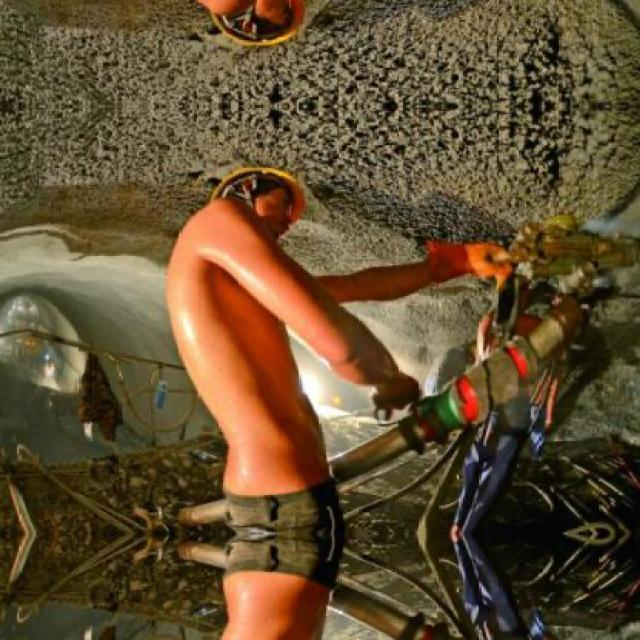helmet: (203, 154, 334, 228), (203, 0, 335, 60)
